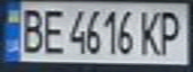1: (100, 7, 121, 55)
4: (63, 6, 87, 55)
6: (115, 7, 139, 56), (84, 7, 103, 55)
B: (15, 4, 48, 55)
E: (39, 6, 69, 56)
K: (136, 7, 166, 56)
P: (154, 7, 190, 56)
